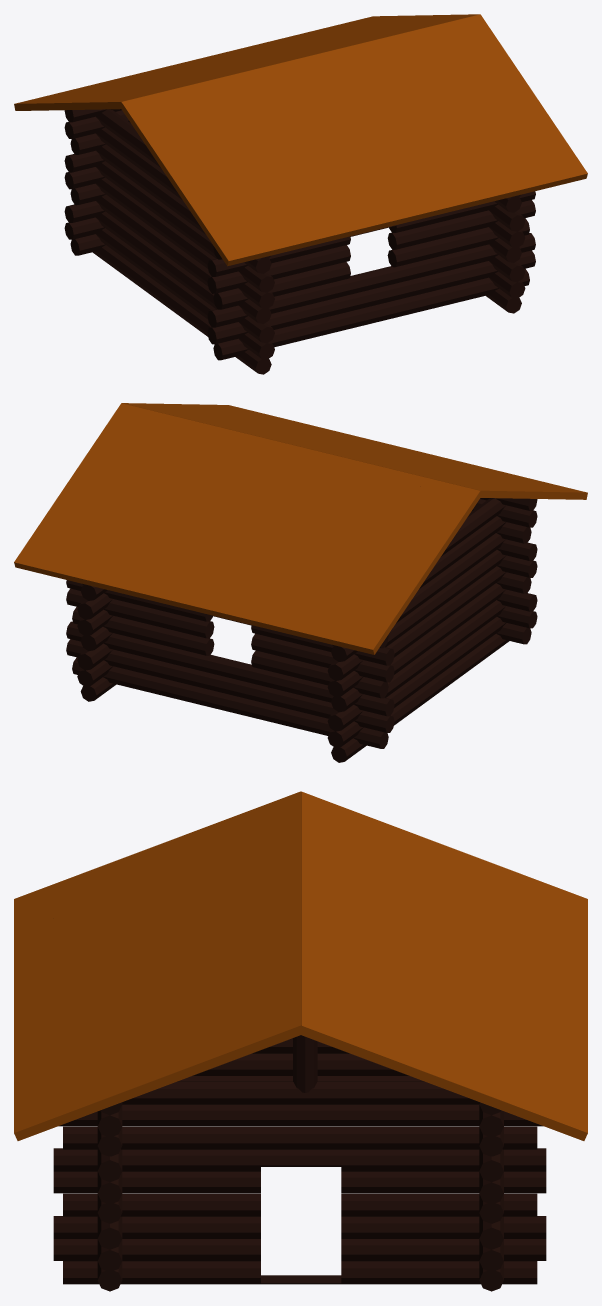
Rendered from wooden_house.obj.
The picture shows the model from 3 angles, top to bottom: view 1: azimuth 30°, elevation 25°; view 2: azimuth 150°, elevation 25°; view 3: azimuth 270°, elevation 25°; orthographic projection. The views are drawn at different scales.
Visible parts, largest first — view 1: roof_Cube.003, sidewall2_Cylinder.038, backwall_Cylinder.031, sidewall1_Cylinder.037, frontwall_Cylinder.035; view 2: roof_Cube.003, sidewall1_Cylinder.037, backwall_Cylinder.031, sidewall2_Cylinder.038, frontwall_Cylinder.035; view 3: roof_Cube.003, frontwall_Cylinder.035, backwall_Cylinder.031, sidewall2_Cylinder.038, sidewall1_Cylinder.037, supportpillar2_Cylinder.
Boxes of the visible parts, bbox=[...] form: roof_Cube.003: bbox=[14, 14, 587, 266]; sidewall2_Cylinder.038: bbox=[207, 191, 535, 360]; backwall_Cylinder.031: bbox=[93, 109, 274, 374]; sidewall1_Cylinder.037: bbox=[64, 109, 130, 255]; frontwall_Cylinder.035: bbox=[486, 194, 525, 313]; roof_Cube.003: bbox=[14, 403, 587, 654]; sidewall1_Cylinder.037: bbox=[66, 580, 394, 748]; backwall_Cylinder.031: bbox=[327, 498, 509, 762]; sidewall2_Cylinder.038: bbox=[471, 498, 537, 644]; frontwall_Cylinder.035: bbox=[77, 583, 116, 701]; roof_Cube.003: bbox=[14, 791, 587, 1140]; frontwall_Cylinder.035: bbox=[53, 1081, 546, 1284]; backwall_Cylinder.031: bbox=[178, 1038, 423, 1081]; sidewall2_Cylinder.038: bbox=[97, 1102, 122, 1291]; sidewall1_Cylinder.037: bbox=[479, 1102, 503, 1291]; supportpillar2_Cylinder: bbox=[293, 1035, 317, 1092].
Bounding box in the file's own units: 11.25 × 6.6 × 11.65.
